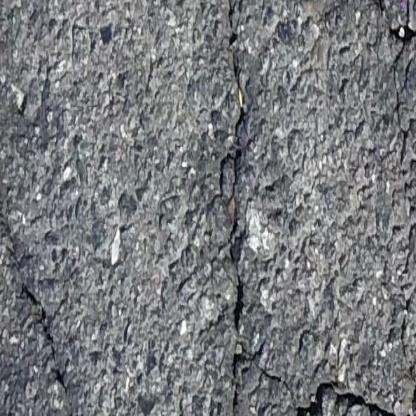Cracks: (216, 0, 250, 333), (20, 285, 70, 393), (282, 377, 416, 416), (389, 9, 416, 47), (229, 351, 252, 380), (229, 381, 243, 416), (66, 412, 86, 416)
